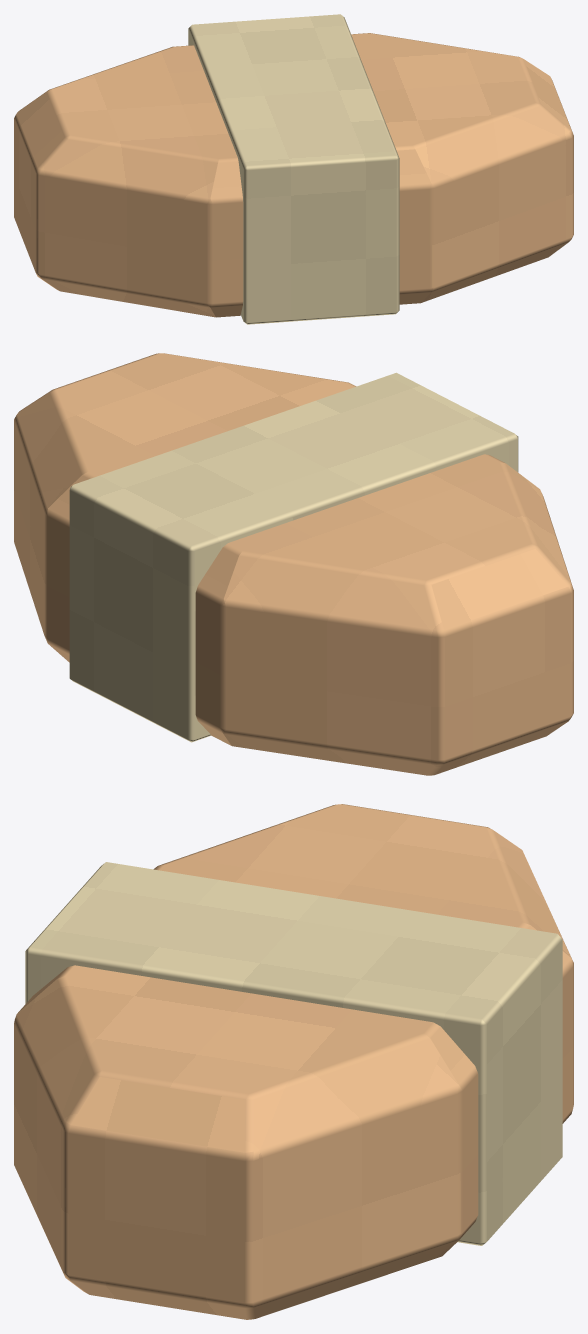
Rendered from TubSoap.glb.
3 views of the same model, one above another, from view 1: azimuth 30°, elevation 25°; view 2: azimuth 150°, elevation 25°; view 3: azimuth 270°, elevation 25° (orthographic). The views are drawn at different scales.
Parts seen in each view (by area): view 1: TubSoap.Soap-cake, TubSoap.Paper-wrap; view 2: TubSoap.Soap-cake, TubSoap.Paper-wrap; view 3: TubSoap.Soap-cake, TubSoap.Paper-wrap.
Part boxes in pixels (x1,y1,x2,y2): TubSoap.Soap-cake: (14,33,573,317); TubSoap.Paper-wrap: (188,14,399,324); TubSoap.Soap-cake: (14,353,573,775); TubSoap.Paper-wrap: (69,372,518,742); TubSoap.Soap-cake: (14,804,573,1319); TubSoap.Paper-wrap: (25,862,562,1245).
Bounding box in the file's own units: 0.2223 × 0.0705 × 0.1564.
Materials: 2 (2 with a texture image).
